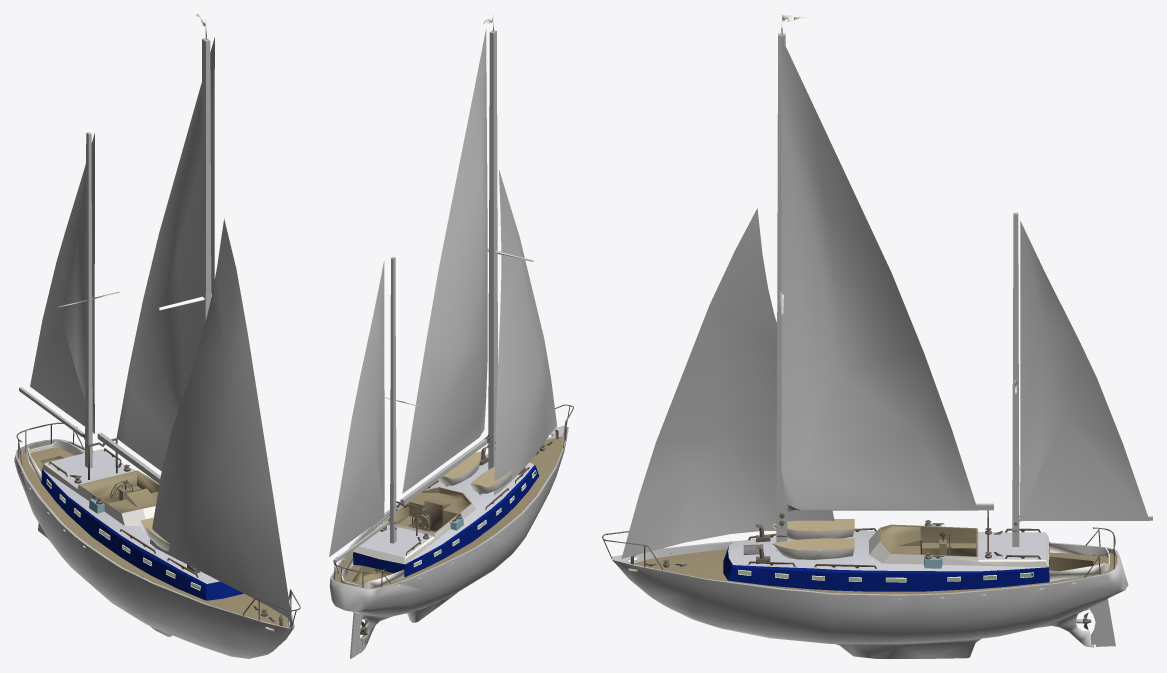
Rendered from f_item_yacht.fbx.
3 renders of one model, left to right at view 1: azimuth 30°, elevation 25°; view 2: azimuth 150°, elevation 25°; view 3: azimuth 270°, elevation 25°, orthographic. The views are drawn at different scales.
Visible parts, largest first — view 1: Group_001, CILNUEVOS_001; view 2: Group_001, CILNUEVOS_001; view 3: Group_001, CILNUEVOS_001.
Part boxes in pixels (left/top/right/bottom): Group_001: left=30, top=37, right=291, bottom=620; CILNUEVOS_001: left=14, top=14, right=300, bottom=658; Group_001: left=329, top=28, right=556, bottom=556; CILNUEVOS_001: left=329, top=14, right=573, bottom=658; Group_001: left=621, top=37, right=1149, bottom=558; CILNUEVOS_001: left=602, top=14, right=1152, bottom=658.
Size of the model in its own units: 58.93 by 288 by 223.
